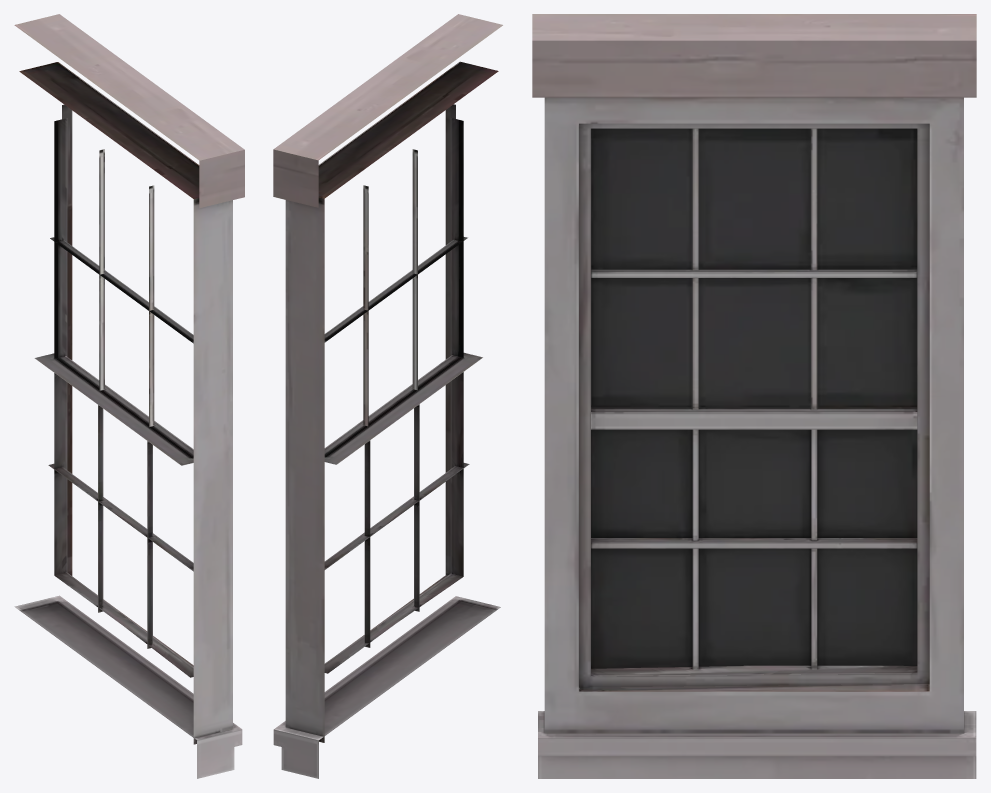
3 views of the same model, side by side, from view 1: azimuth 30°, elevation 25°; view 2: azimuth 150°, elevation 25°; view 3: azimuth 270°, elevation 25° (orthographic). The views are drawn at different scales.
Visible parts, largest first — view 1: body0_model0_lod0_mesh0; view 2: body0_model0_lod0_mesh0; view 3: body0_model0_lod0_mesh0.
Part boxes in pixels (x1,y1,x2,y2): body0_model0_lod0_mesh0: [14, 14, 244, 778]; body0_model0_lod0_mesh0: [273, 14, 502, 778]; body0_model0_lod0_mesh0: [532, 14, 976, 778].
Bounding box in the file's own units: 10.09 × 130 × 70.55.
1 material, 1 textured.
